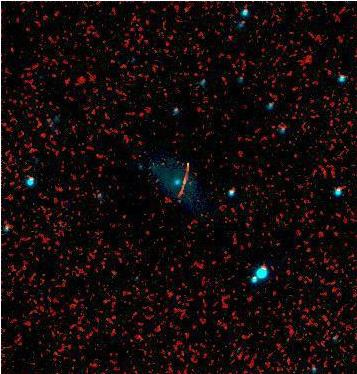star: (161, 165, 191, 195)
